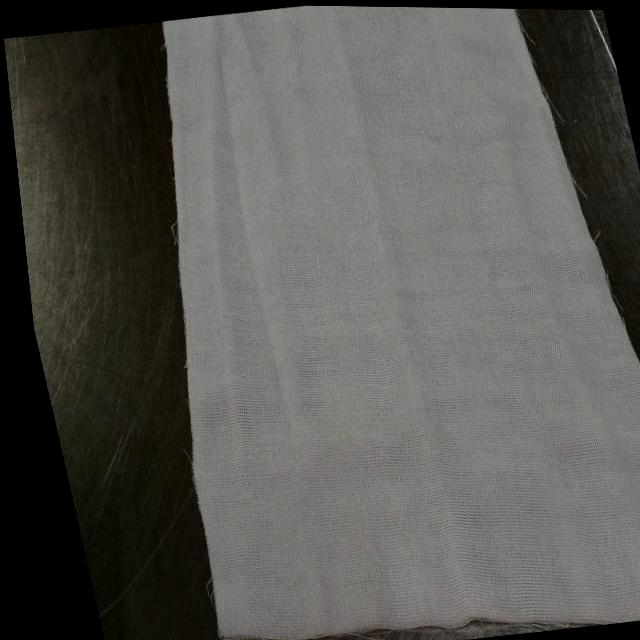General: (158, 4, 637, 637)
